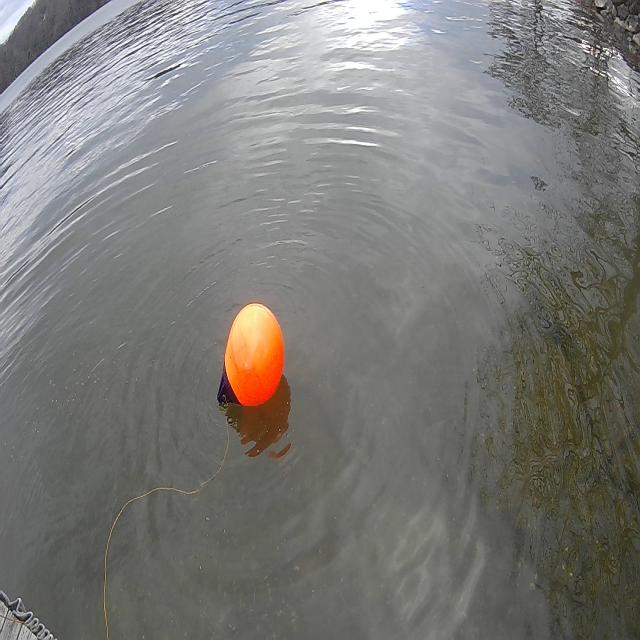Buoy: (216, 298, 287, 417)
